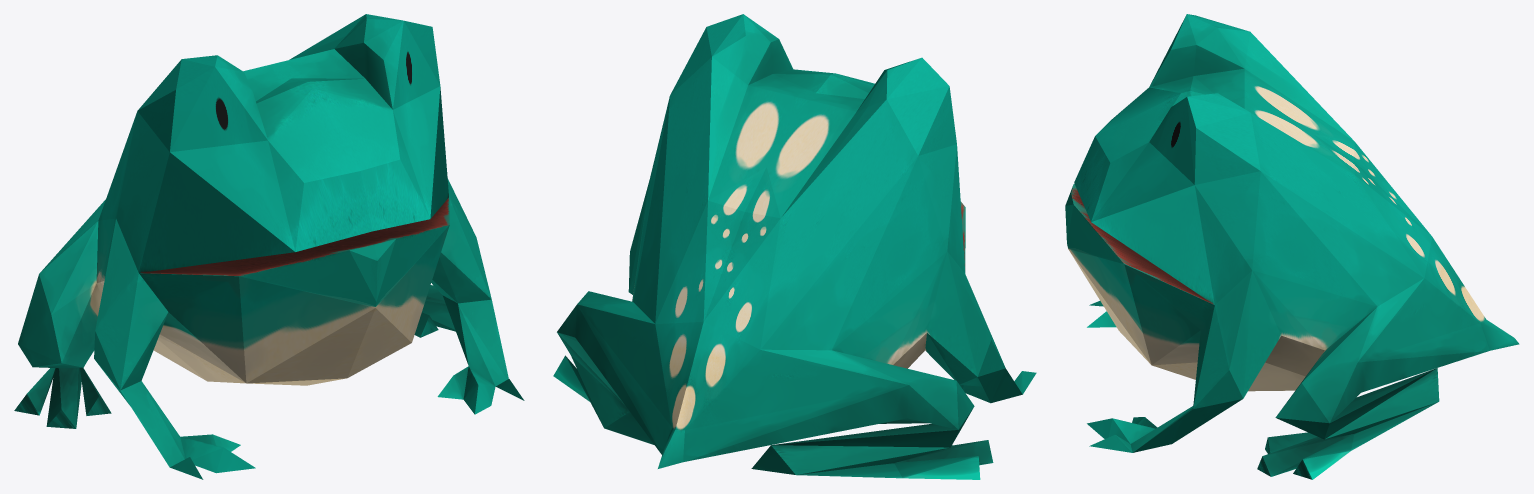
The model's file is frog0.fbx.
3 renders of one model, left to right at view 1: azimuth 30°, elevation 25°; view 2: azimuth 150°, elevation 25°; view 3: azimuth 270°, elevation 25°, orthographic. The views are drawn at different scales.
Parts seen in each view (by area): view 1: frog_paper_1; view 2: frog_paper_1; view 3: frog_paper_1.
Boxes of the visible parts, x1,y1,x2,y2 form: frog_paper_1: (14,14,524,479); frog_paper_1: (553,14,1036,479); frog_paper_1: (1065,14,1519,479).
Size of the model in its own units: 2.86 by 2.22 by 2.78.
1 material, 1 textured.
